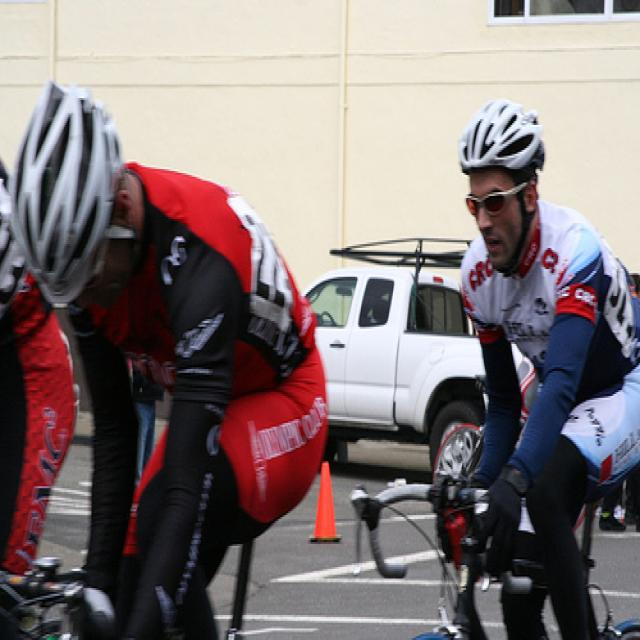bicycle: (352, 478, 640, 639), (1, 557, 253, 639)
car: (300, 234, 490, 484)
person: (11, 78, 329, 639), (458, 95, 640, 639)
